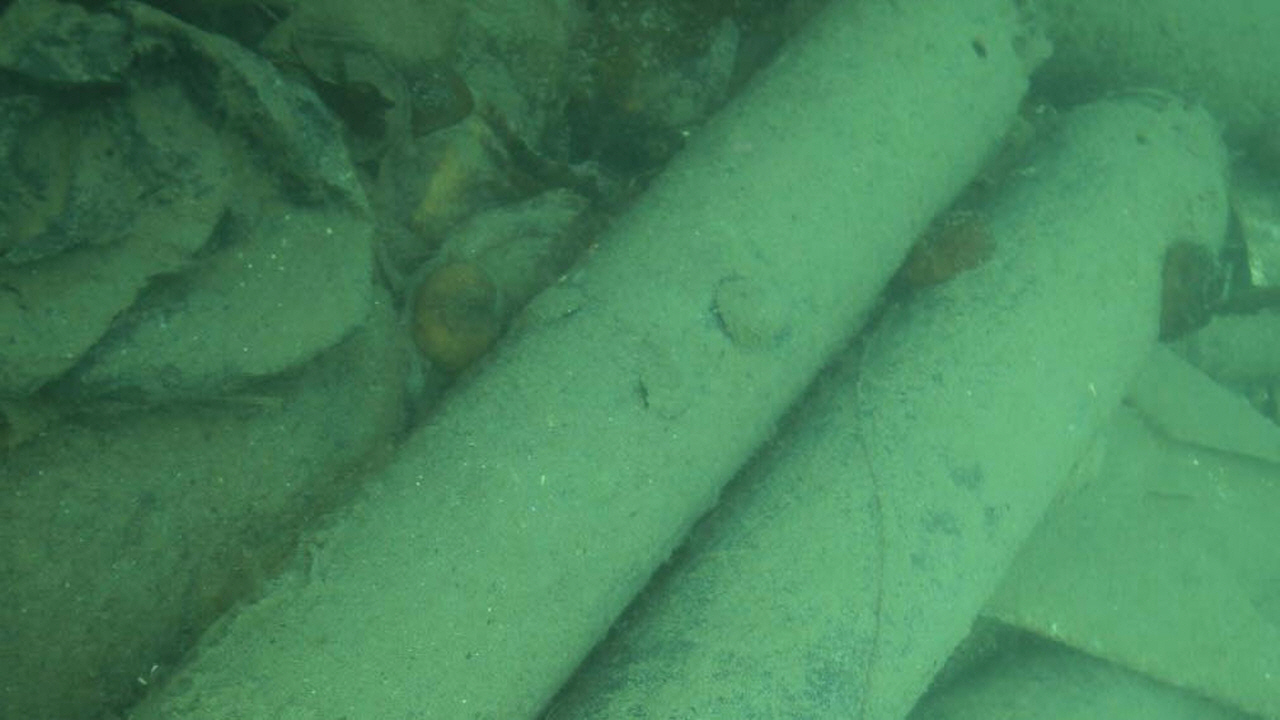eel fish trap: (118, 0, 1056, 720), (553, 83, 1227, 720)
